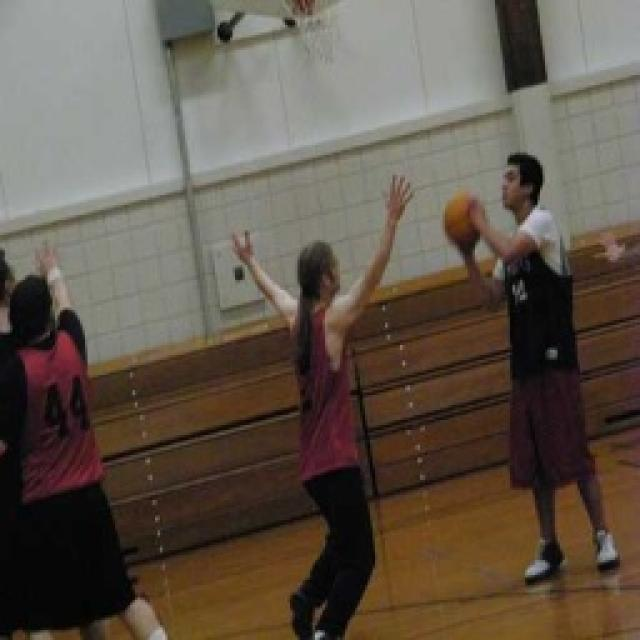rim: (438, 187, 488, 243)
